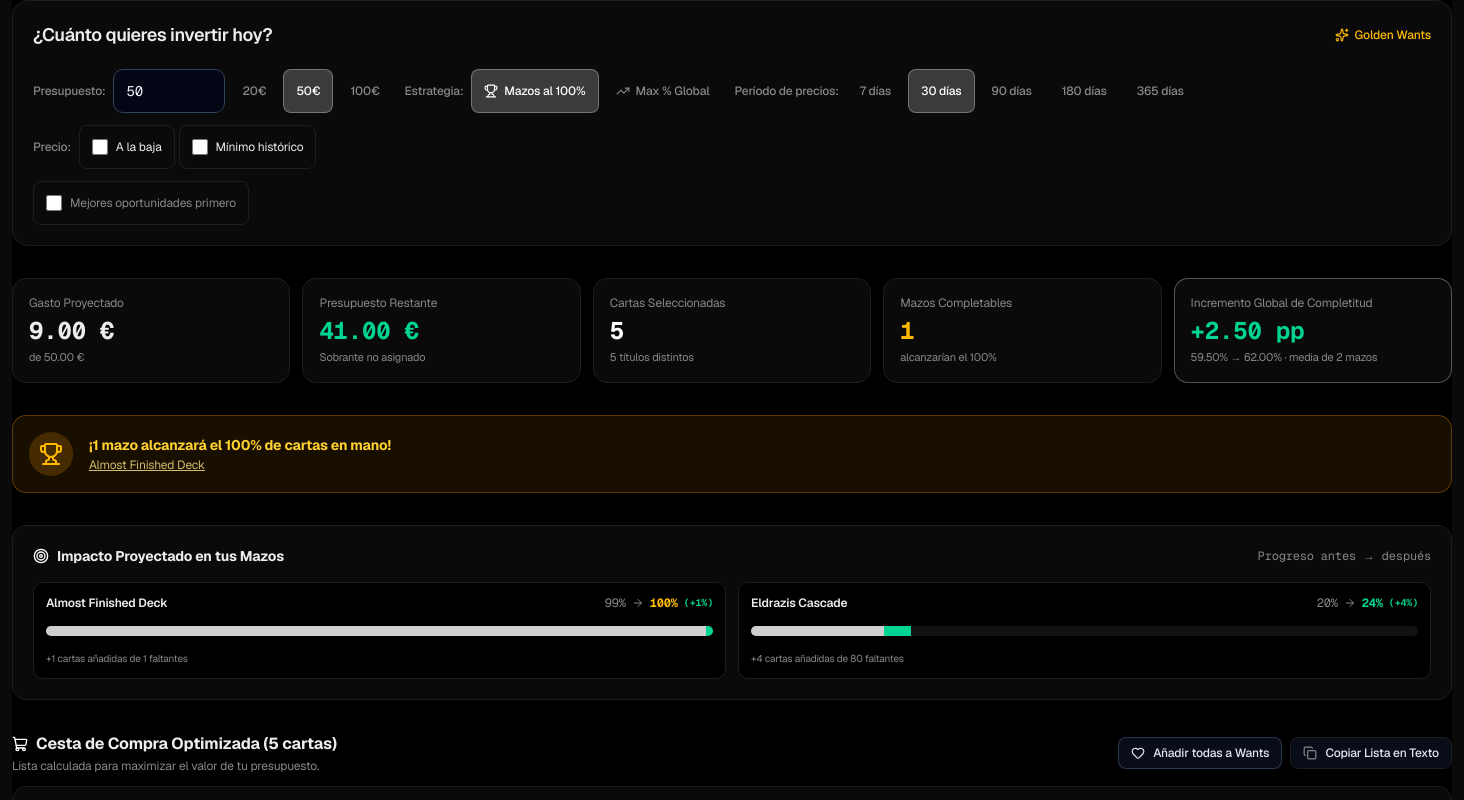
Test: GoldenWantsTab Component › copies every selected card as quantity and name, one per line
Click the button "Copiar Lista en Texto".
click(1371, 752)  # box [1290,736,1452,768]
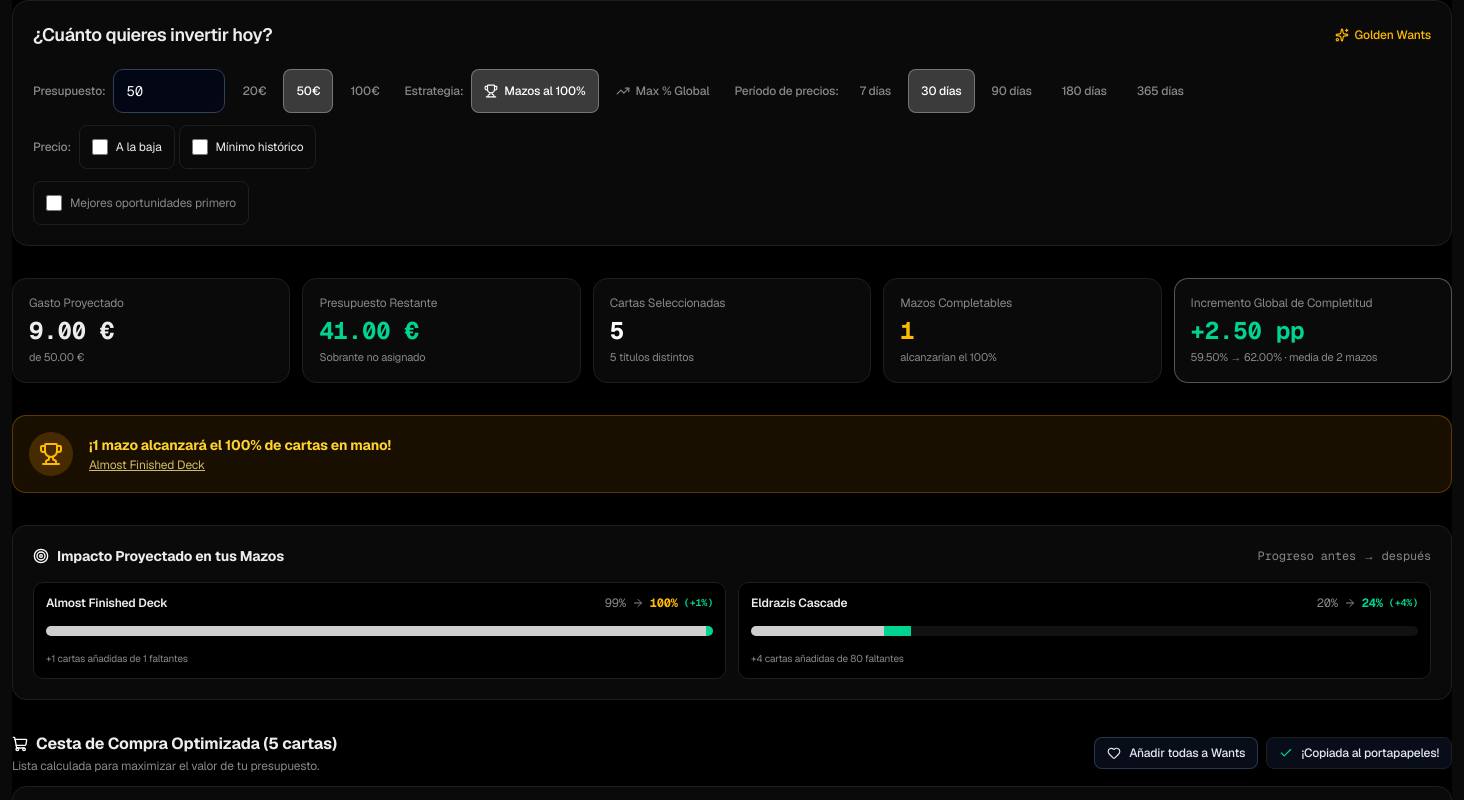
Check: the text "¡Copiada al portapapeles!" is shown, box [1301,744,1439,760]
